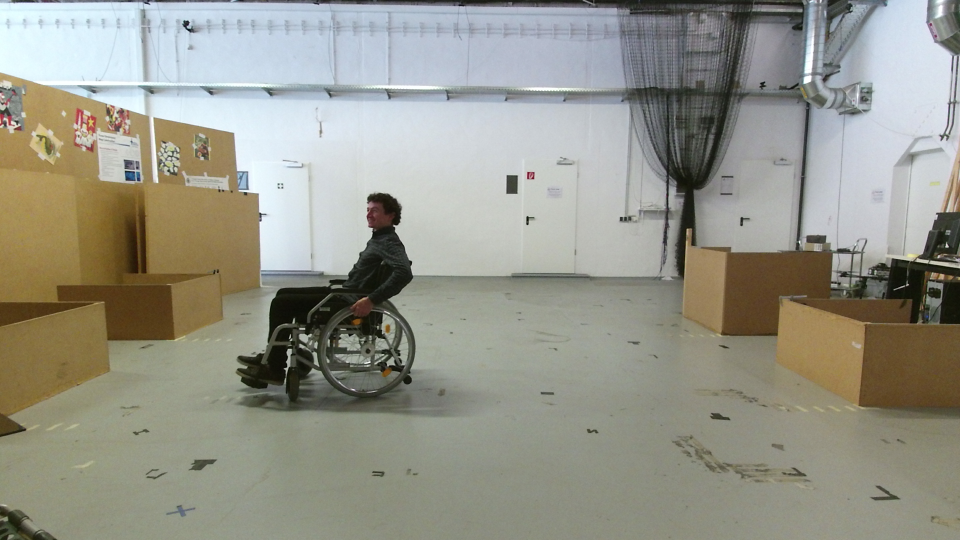wheelchair: (235, 184, 429, 408)
